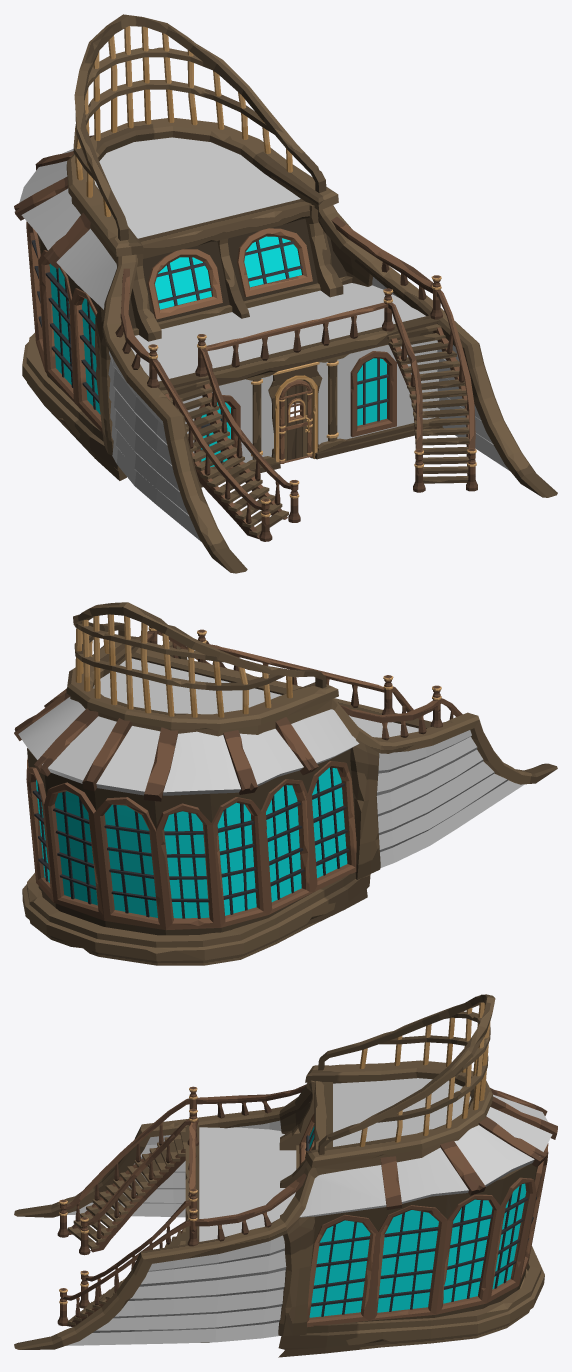
The model's file is SM_Bld_Ship_Back_01.fbx.
The picture shows the model from 3 angles, top to bottom: view 1: azimuth 30°, elevation 25°; view 2: azimuth 150°, elevation 25°; view 3: azimuth 270°, elevation 25°; orthographic projection. The views are drawn at different scales.
Parts seen in each view (by area): view 1: SM_Bld_Ship_Back_01; view 2: SM_Bld_Ship_Back_01; view 3: SM_Bld_Ship_Back_01.
Boxes of the visible parts, <box> form: SM_Bld_Ship_Back_01: <box>14,14,557,573</box>; SM_Bld_Ship_Back_01: <box>14,602,557,965</box>; SM_Bld_Ship_Back_01: <box>14,994,557,1357</box>.
Bounding box in the file's own units: 1022 × 1047 × 1673.
